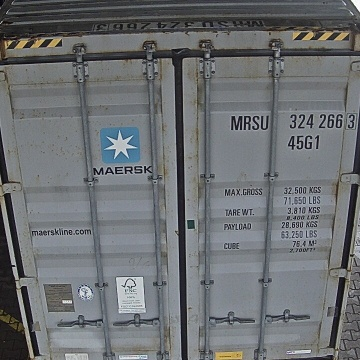serial_id: (231, 113, 357, 129)
